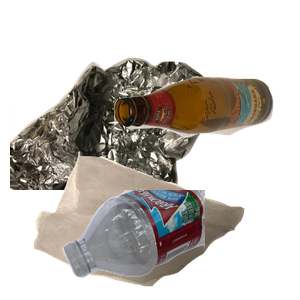glass: (111, 74, 300, 204)
metal: (10, 47, 216, 227)
plastic: (60, 190, 300, 280)
trash: (31, 149, 268, 300)
